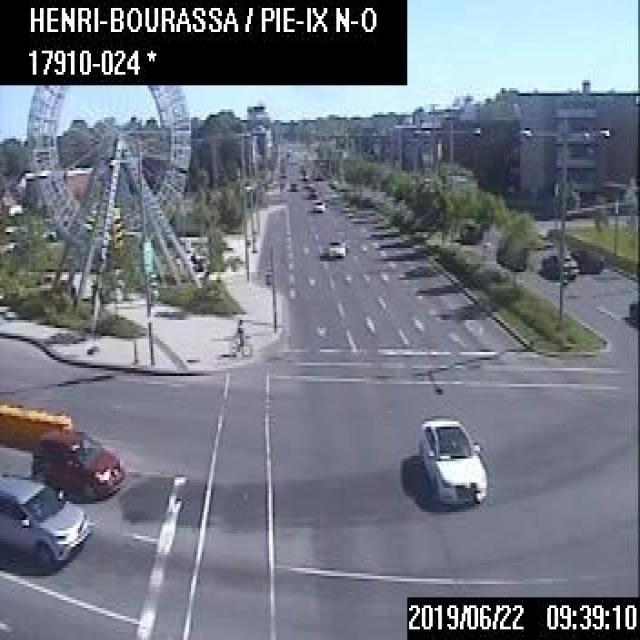cyclist: (227, 315, 253, 357)
vehicle: (0, 475, 89, 565), (32, 428, 123, 498), (418, 416, 486, 507), (534, 251, 574, 280), (571, 245, 602, 272), (326, 237, 346, 256), (627, 299, 638, 325), (311, 197, 324, 211), (305, 185, 316, 197), (288, 179, 296, 189)
